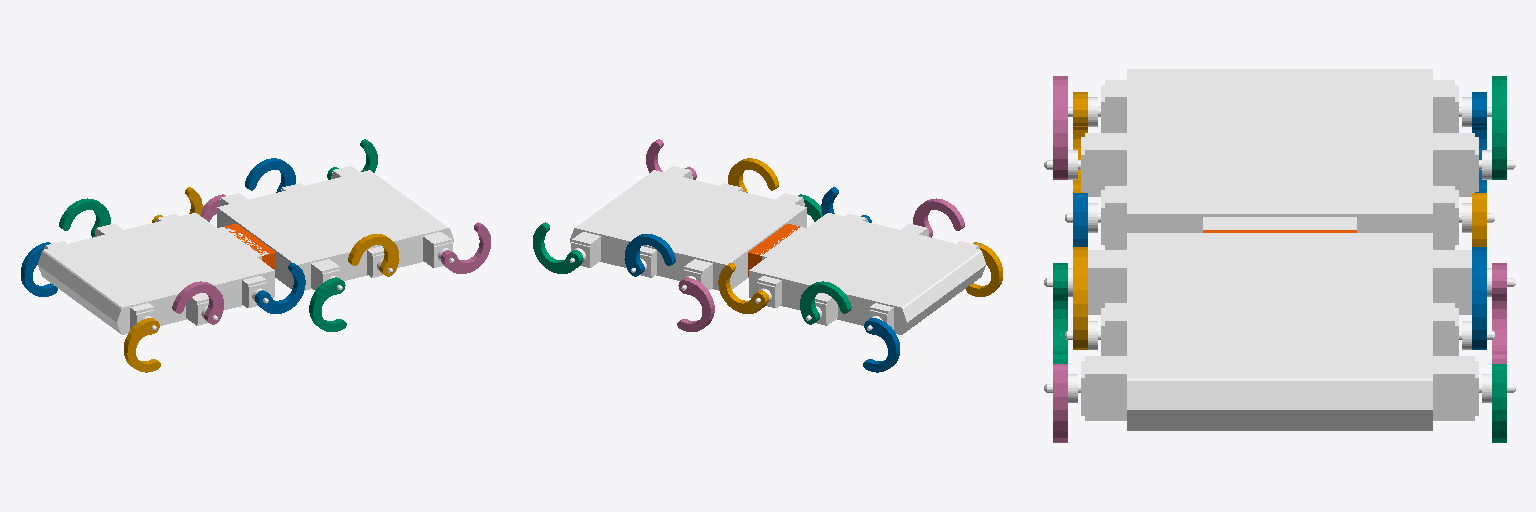
--- Render facts (derived) ---
3 views of the same robot in one strip: view 1: azimuth 30°, elevation 25°; view 2: azimuth 150°, elevation 25°; view 3: azimuth 270°, elevation 25° (orthographic).
Model strirus_gamma with 33 links and 32 joints (12 revolute, 20 fixed), rooted at base_footprint, posed all joints at 0.
Links seen in each view (by area): view 1: body_1_part, body_2_part, leg_right_1, leg_right_4, leg_right_3, leg_right_0, leg_right_5, leg_right_2, leg_left_1, leg_left_4, leg_left_0, motor_box_right_5 (+4 smaller); view 2: body_1_part, body_2_part, leg_left_1, leg_left_4, leg_left_3, leg_left_0, leg_left_5, leg_left_2, leg_right_1, leg_right_4, leg_right_0, motor_box_left_5 (+4 smaller); view 3: body_2_part, body_1_part, motor_box_right_5, motor_box_left_5, motor_box_left_1, motor_box_right_1, motor_box_left_3, motor_box_right_3, motor_box_left_2, motor_box_right_2, bridge_1_part, motor_box_right_4 (+15 smaller).
Link boxes in pixels (x1,y1,x2,y2): body_1_part: [38, 213, 274, 334]; body_2_part: [217, 170, 453, 290]; leg_right_1: [172, 281, 223, 324]; leg_right_4: [348, 234, 399, 276]; leg_right_3: [309, 277, 346, 331]; leg_right_0: [124, 318, 160, 372]; leg_right_5: [440, 222, 490, 273]; leg_right_2: [255, 263, 305, 313]; leg_left_1: [59, 198, 110, 237]; leg_left_4: [245, 158, 295, 192]; leg_left_0: [21, 242, 57, 296]; motor_box_right_5: [410, 216, 454, 267]; body_1_part: [749, 213, 985, 334]; body_2_part: [570, 170, 806, 290]; leg_left_1: [800, 281, 851, 324]; leg_left_4: [624, 234, 675, 276]; leg_left_3: [677, 277, 714, 331]; leg_left_0: [863, 318, 899, 372]; leg_left_5: [533, 222, 583, 273]; leg_left_2: [718, 263, 768, 313]; leg_right_1: [913, 198, 964, 237]; leg_right_4: [728, 158, 778, 192]; leg_right_0: [966, 242, 1002, 296]; motor_box_left_5: [569, 216, 613, 267]; body_2_part: [1127, 233, 1432, 430]; body_1_part: [1127, 69, 1432, 232]; motor_box_right_5: [1044, 356, 1209, 420]; motor_box_left_5: [1351, 356, 1515, 420]; motor_box_left_1: [1350, 133, 1515, 196]; motor_box_right_1: [1044, 133, 1209, 196]; motor_box_left_3: [1350, 250, 1515, 314]; motor_box_right_3: [1044, 250, 1209, 314]; motor_box_left_2: [1330, 186, 1494, 249]; motor_box_right_2: [1065, 186, 1229, 249]; bridge_1_part: [1203, 217, 1356, 229]; motor_box_right_4: [1065, 303, 1228, 355].
Size in the robot's own frame: 0.6798 by 0.399 by 0.1454 metres.
28 mesh visuals loaded from 6 distinct referenced files (6 binary STL).

robot.urdf — strirus_gamma:
<?xml version="1.0" encoding="utf-8"?>
<!-- =================================================================================== -->
<!-- |    This document was autogenerated by xacro from strirus_gamma.xacro            | -->
<!-- |    EDITING THIS FILE BY HAND IS NOT RECOMMENDED                                 | -->
<!-- =================================================================================== -->
<robot name="strirus_gamma">
  <!-- 	<xacro:arg name="namespace" default="/"/>
        <xacro:property name="namespace" value="$(arg namespace)" /> -->
  <!-- Constants for simulating -->
  <!-- Xacro arg provides xacro.py file.xacro real_number_of_legs:=12 -->
  <!-- arg to properties with converting to rad if it is needed -->
  <!-- Import Rviz colors -->
  <material name="black">
    <color rgba="0.0 0.0 0.0 1.0"/>
  </material>
  <material name="blue">
    <color rgba="0.0 0.0 0.8 1.0"/>
  </material>
  <material name="green">
    <color rgba="0.0 0.8 0.0 1.0"/>
  </material>
  <material name="grey">
    <color rgba="0.2 0.2 0.2 1.0"/>
  </material>
  <material name="orange">
    <color rgba="1.0 0.423529411765 0.0392156862745 1.0"/>
  </material>
  <material name="brown">
    <color rgba="0.870588235294 0.811764705882 0.764705882353 1.0"/>
  </material>
  <material name="red">
    <color rgba="0.8 0.0 0.0 1.0"/>
  </material>
  <material name="white">
    <color rgba="1.0 1.0 1.0 1.0"/>
  </material>
  <!-- Body description -->
  <link name="base_footprint"/>
  <joint name="base_footprint_body_1_part_fixed" type="fixed">
    <parent link="base_footprint"/>
    <child link="body_1_part"/>
    <origin rpy="0  0  0" xyz="0 0 0.08"/>
  </joint>
  <!-- body 1 -->
  <link name="body_1_part">
    <inertial>
      <mass value="0.665"/>
      <origin rpy="0  0  0" xyz="0.101 0 -0.002"/>
      <inertia ixx="0.005" ixy="0" ixz="0.0001366" iyy="0.013" iyz="0" izz="0.017"/>
    </inertial>
    <collision>
      <origin rpy="0  0  0" xyz="0 0 0"/>
      <geometry>
        <mesh filename="package://robot_description/strirus_cad_design/stl/body_1_collision.stl" scale="1 1 1"/>
      </geometry>
    </collision>
    <visual>
      <origin rpy="0  0  0" xyz="0 0 0"/>
      <geometry>
        <!-- <mesh filename="package://robot_description/strirus_cad_design/stl/body_1_visual.stl" scale="1 1 1"/> -->
        <mesh filename="package://robot_description/strirus_cad_design/stl/body_1_collision.stl" scale="1 1 1"/>
      </geometry>
      <material name="white"/>
    </visual>
  </link>
  <!-- tof camera 1-->
  <link name="tof_camera_1"/>
  <joint name="body_1_part_tof_camera_1_fixed" type="fixed">
    <parent link="body_1_part"/>
    <child link="tof_camera_1"/>
    <origin rpy="0  0  3.14159265359" xyz="-0.0245 0 0"/>
  </joint>
  <!-- imu 1 -->
  <link name="imu_1"/>
  <joint name="body_1_part_imu_1_fixed" type="fixed">
    <parent link="body_1_part"/>
    <child link="imu_1"/>
    <origin rpy="0  0  0" xyz="0 0 0"/>
  </joint>
  <!-- body 2 -->
  <link name="body_2_part">
    <inertial>
      <mass value="0.665"/>
      <origin rpy="0  0  0" xyz="0.146 0 -0.002"/>
      <inertia ixx="0.005" ixy="1.656e-06" ixz="0.0002448" iyy="0.02" iyz="-2.631e-08" izz="0.024"/>
    </inertial>
    <collision>
      <origin rpy="0  0  0" xyz="0 0 0"/>
      <geometry>
        <mesh filename="package://robot_description/strirus_cad_design/stl/body_2_collision.stl" scale="1 1 1"/>
      </geometry>
    </collision>
    <visual>
      <origin rpy="0  0  0" xyz="0 0 0"/>
      <geometry>
        <!-- <mesh filename="package://robot_description/strirus_cad_design/stl/body_2_visual.stl" scale="1 1 1"/> -->
        <mesh filename="package://robot_description/strirus_cad_design/stl/body_2_collision.stl" scale="1 1 1"/>
      </geometry>
      <material name="white"/>
    </visual>
  </link>
  <!-- tof camera 2 -->
  <link name="tof_camera_2"/>
  <joint name="body_2_part_tof_camera_2_fixed" type="fixed">
    <parent link="body_2_part"/>
    <child link="tof_camera_2"/>
    <origin rpy="0  0  0" xyz="0.2715 0 0"/>
  </joint>
  <!-- imu 1 -->
  <link name="imu_2"/>
  <joint name="body_2_part_imu_2_fixed" type="fixed">
    <parent link="body_2_part"/>
    <child link="imu_2"/>
    <origin rpy="0  0  0" xyz="0.2226 0 0"/>
  </joint>
  <!-- bridge 1 -->
  <link name="bridge_1_part">
    <inertial>
      <mass value="0.147"/>
      <origin rpy="0  0  0" xyz="0.005 0 0"/>
      <inertia ixx="0.0003384" ixy="0" ixz="0" iyy="5.442e-05" iyz="0" izz="0.0003303"/>
    </inertial>
    <collision>
      <origin rpy="0  0  0" xyz="0 0 0"/>
      <geometry>
        <mesh filename="package://robot_description/strirus_cad_design/stl/bridge_1_collision.stl" scale="1 1 1"/>
      </geometry>
    </collision>
    <visual>
      <origin rpy="0  0  0" xyz="0 0 0"/>
      <geometry>
        <!-- <mesh filename="package://robot_description/strirus_cad_design/stl/bridge_1_visual.stl" scale="1 1 1"/> -->
        <mesh filename="package://robot_description/strirus_cad_design/stl/bridge_1_collision.stl" scale="1 1 1"/>
      </geometry>
      <material name="white"/>
    </visual>
  </link>
  <!-- bridge 2 -->
  <link name="bridge_2_part">
    <inertial>
      <mass value="0.147"/>
      <origin rpy="0  0  0" xyz="0.025 0 0"/>
      <inertia ixx="0.0003654" ixy="0" ixz="-1.872e-06" iyy="0.0001394" iyz="0" izz="0.0004423"/>
    </inertial>
    <collision>
      <origin rpy="0  0  0" xyz="0 0 0"/>
      <geometry>
        <mesh filename="package://robot_description/strirus_cad_design/stl/bridge_2_collision.stl" scale="1 1 1"/>
      </geometry>
    </collision>
    <visual>
      <origin rpy="0  0  0" xyz="0 0 0"/>
      <geometry>
        <!-- <mesh filename="package://robot_description/strirus_cad_design/stl/bridge_2_visual.stl" scale="1 1 1"/> -->
        <mesh filename="package://robot_description/strirus_cad_design/stl/bridge_2_collision.stl" scale="1 1 1"/>
      </geometry>
      <material name="orange"/>
    </visual>
  </link>
  <joint name="segment_side_fixed" type="fixed">
    <parent link="body_1_part"/>
    <child link="bridge_1_part"/>
    <origin rpy="0 0 -0.0" xyz="0.247 0 0"/>
  </joint>
  <joint name="segment_up_fixed" type="fixed">
    <parent link="bridge_1_part"/>
    <child link="bridge_2_part"/>
    <origin rpy="0 -0.0 0" xyz="0.03 0 0"/>
  </joint>
  <joint name="bridge_2_part_body_2_part_fixed" type="fixed">
    <parent link="bridge_2_part"/>
    <child link="body_2_part"/>
    <origin rpy="0 0 0" xyz="0.03 0 0"/>
  </joint>
  <!--===================== Link description =====================-->
  <link name="motor_box_left_5">
    <inertial>
      <mass value="0.286"/>
      <origin rpy="0  0  0" xyz="0.053 0.003 0"/>
      <inertia ixx="8.104e-05" ixy="8.747e-06" ixz="2.555e-07" iyy="0.001" iyz="0" izz="0.001"/>
    </inertial>
    <collision>
      <origin rpy="0  0  0" xyz="0 0 0"/>
      <geometry>
        <mesh filename="package://robot_description/strirus_cad_design/stl/motor_box_collision.stl" scale="1 1 1"/>
      </geometry>
    </collision>
    <visual>
      <origin rpy="0  0  0" xyz="0 0 0"/>
      <geometry>
        <mesh filename="package://robot_description/strirus_cad_design/stl/motor_box_visual.stl" scale="1 1 1"/>
      </geometry>
      <material name="white"/>
    </visual>
  </link>
  <link name="leg_left_5">
    <inertial>
      <mass value="0.051"/>
      <origin rpy="0  0  0" xyz="-0.013348671 0 0"/>
      <inertia ixx="0.000102" ixy="0" ixz="-2.817e-05" iyy="0.0001322" iyz="0" izz="3.167e-05"/>
    </inertial>
    <collision>
      <origin rpy="0  0  0" xyz="0 0 0"/>
      <geometry>
        <!-- <box size="0.1 0.0065 0.08"/> -->
        <mesh filename="package://robot_description/strirus_cad_design/stl/leg_80_collision.stl" scale="1 1 1"/>
      </geometry>
    </collision>
    <visual>
      <origin rpy="0 0 0" xyz="0 0 0"/>
      <geometry>
        <!-- <box size="0.1 0.0065 0.08"/> -->
        <mesh filename="package://robot_description/strirus_cad_design/stl/leg_80_visual.stl" scale="1 1 1"/>
      </geometry>
    </visual>
  </link>
  <joint name="motor_box_left_5_fixed_joint" type="fixed">
    <child link="motor_box_left_5"/>
    <parent link="body_2_part"/>
    <origin rpy="0       0        1.57079632679" xyz="0.247 0.063  0"/>
  </joint>
  <joint name="leg_left_5_revolute_joint" type="revolute">
    <parent link="motor_box_left_5"/>
    <child link="leg_left_5"/>
    <origin rpy="0 10.5592419746 -1.57079632679" xyz="0.123 0 0"/>
    <!--=============== Joint properties ===============-->
    <axis xyz="0 1  0"/>
    <limit effort="300" lower="-1e+5" upper="1e+5" velocity="3.0"/>
    <dynamics damping="0.001" friction="0.0"/>
  </joint>
  <!--===================== Leg transmission description =====================-->
  <transmission name="leg_left_5_trans">
    <type>transmission_interface/SimpleTransmission</type>
    <joint name="leg_left_5_revolute_joint">
      <!-- <hardwareInterface>hardware_interface/PositionJointInterface</hardwareInterface> -->
      <hardwareInterface>hardware_interface/EffortJointInterface</hardwareInterface>
    </joint>
    <actuator name="leg_left_5_motor">
      <mechanicalReduction>1</mechanicalReduction>
    </actuator>
  </transmission>
  <gazebo reference="leg_left_5">
            
      </gazebo>
  <gazebo reference="leg_left_5">
    <mu1 value="100.0"/>
    <mu2 value="100.0"/>
    <!-- <kp  value="1000.0" />
        <kd  value="1000.0" /> -->
    <!-- <collision>
               <surface>
        <bounce>
            <restitution_coefficient>0</restitution_coefficient>
            <threshold>0</threshold>
          </bounce>
          <contact>
            <ode>
              <soft_cfm>0</soft_cfm>
              <soft_erp>0.200000</soft_erp>
              <kp>10000000000000.000000</kp>
              <kd>100000000000.000000</kd>
              <max_vel>-1</max_vel>
              <min_depth>0</min_depth>
            </ode>
          </contact>
        </surface>
        </collision> -->
    <!-- <mu1 value="10000.0"/>
        <mu2 value="10000.0"/>
        <kp  value="10000000.0" />
        <kd  value="1.0" />
        <fdir1 value="1 0 0"/> -->
    <material>Gazebo/Green</material>
  </gazebo>
  <!-- frameName seems not working data are given according to the world frame -->
  <gazebo reference="leg_left_5">
    <sensor name="leg_left_5_bumper" type="contact">
      <always_on>true</always_on>
      <update_rate>50</update_rate>
      <contact>
        <collision>leg_left_5_collision</collision>
      </contact>
      <plugin filename="libgazebo_ros_bumper.so" name="leg_left_5_bumper_controller">
        <bumperTopicName>leg_left_5_bumper</bumperTopicName>
        <frameName>world</frameName>
      </plugin>
    </sensor>
  </gazebo>
  <!--===================== Link description =====================-->
  <link name="motor_box_left_4">
    <inertial>
      <mass value="0.286"/>
      <origin rpy="0  0  0" xyz="0.053 0.003 0"/>
      <inertia ixx="8.104e-05" ixy="8.747e-06" ixz="2.555e-07" iyy="0.001" iyz="0" izz="0.001"/>
    </inertial>
    <collision>
      <origin rpy="0  0  0" xyz="0 0 0"/>
      <geometry>
        <mesh filename="package://robot_description/strirus_cad_design/stl/motor_box_collision.stl" scale="1 1 1"/>
      </geometry>
    </collision>
    <visual>
      <origin rpy="0  0  0" xyz="0 0 0"/>
      <geometry>
        <mesh filename="package://robot_description/strirus_cad_design/stl/motor_box_visual.stl" scale="1 1 1"/>
      </geometry>
      <material name="white"/>
    </visual>
  </link>
  <link name="leg_left_4">
    <inertial>
      <mass value="0.051"/>
      <origin rpy="0  0  0" xyz="-0.013348671 0 0"/>
      <inertia ixx="0.000102" ixy="0" ixz="-2.817e-05" iyy="0.0001322" iyz="0" izz="3.167e-05"/>
    </inertial>
    <collision>
      <origin rpy="0  0  0" xyz="0 0 0"/>
      <geometry>
        <!-- <box size="0.1 0.0065 0.08"/> -->
        <mesh filename="package://robot_description/strirus_cad_design/stl/leg_80_collision.stl" scale="1 1 1"/>
      </geometry>
    </collision>
    <visual>
      <origin rpy="0 0 0" xyz="0 0 0"/>
      <geometry>
        <!-- <box size="0.1 0.0065 0.08"/> -->
        <mesh filename="package://robot_description/strirus_cad_design/stl/leg_80_visual.stl" scale="1 1 1"/>
      </geometry>
    </visual>
  </link>
  <joint name="motor_box_left_4_fixed_joint" type="fixed">
    <child link="motor_box_left_4"/>
    <parent link="body_2_part"/>
    <origin rpy="0       0        1.57079632679" xyz="0.141 0.046  0"/>
  </joint>
  <joint name="leg_left_4_revolute_joint" type="revolute">
    <parent link="motor_box_left_4"/>
    <child link="leg_left_4"/>
    <origin rpy="0 8.46484687217 -1.57079632679" xyz="0.123 0 0"/>
    <!--=============== Joint properties ===============-->
    <axis xyz="0 1  0"/>
    <limit effort="300" lower="-1e+5" upper="1e+5" velocity="3.0"/>
    <dynamics damping="0.001" friction="0.0"/>
  </joint>
  <!--===================== Leg transmission description =====================-->
  <transmission name="leg_left_4_trans">
    <type>transmission_interface/SimpleTransmission</type>
    <joint name="leg_left_4_revolute_joint">
      <!-- <hardwareInterface>hardware_interface/PositionJointInterface</hardwareInterface> -->
      <hardwareInterface>hardware_interface/EffortJointInterface</hardwareInterface>
    </joint>
    <actuator name="leg_left_4_motor">
      <mechanicalReduction>1</mechanicalReduction>
    </actuator>
  </transmission>
  <gazebo reference="leg_left_4">
            
      </gazebo>
  <gazebo reference="leg_left_4">
    <mu1 value="100.0"/>
    <mu2 value="100.0"/>
    <!-- <kp  value="1000.0" />
        <kd  value="1000.0" /> -->
    <!-- <collision>
               <surface>
        <bounce>
            <restitution_coefficient>0</restitution_coefficient>
            <threshold>0</threshold>
          </bounce>
          <contact>
            <ode>
              <soft_cfm>0</soft_cfm>
              <soft_erp>0.200000</soft_erp>
              <kp>10000000000000.000000</kp>
              <kd>100000000000.000000</kd>
              <max_vel>-1</max_vel>
              <min_depth>0</min_depth>
            </ode>
          </contact>
        </surface>
        </collision> -->
    <!-- <mu1 value="10000.0"/>
        <mu2 value="10000.0"/>
        <kp  value="10000000.0" />
        <kd  value="1.0" />
        <fdir1 value="1 0 0"/> -->
    <material>Gazebo/Green</material>
  </gazebo>
  <!-- frameName seems not working data are given according to the world frame -->
  <gazebo reference="leg_left_4">
    <sensor name="leg_left_4_bumper" type="contact">
      <always_on>true</always_on>
      <update_rate>50</update_rate>
      <contact>
        <collision>leg_left_4_collision</collision>
      </contact>
      <plugin filename="libgazebo_ros_bumper.so" name="leg_left_4_bumper_controller">
        <bumperTopicName>leg_left_4_bumper</bumperTopicName>
        <frameName>world</frameName>
      </plugin>
    </sensor>
  </gazebo>
  <!--===================== Link description =====================-->
  <link name="motor_box_left_3">
    <inertial>
      <mass value="0.286"/>
      <origin rpy="0  0  0" xyz="0.053 0.003 0"/>
      <inertia ixx="8.104e-05" ixy="8.747e-06" ixz="2.555e-07" iyy="0.001" iyz="0" izz="0.001"/>
    </inertial>
    <collision>
      <origin rpy="0  0  0" xyz="0 0 0"/>
      <geometry>
        <mesh filename="package://robot_description/strirus_cad_design/stl/motor_box_collision.stl" scale="1 1 1"/>
      </geometry>
    </collision>
    <visual>
      <origin rpy="0  0  0" xyz="0 0 0"/>
      <geometry>
        <mesh filename="package://robot_description/strirus_cad_design/stl/motor_box_visual.stl" scale="1 1 1"/>
      </geometry>
      <material name="white"/>
    </visual>
  </link>
  <link name="leg_left_3">
    <inertial>
      <mass value="0.051"/>
      <origin rpy="0  0  0" xyz="-0.013348671 0 0"/>
      <inertia ixx="0.000102" ixy="0" ixz="-2.817e-05" iyy="0.0001322" iyz="0" izz="3.167e-05"/>
    </inertial>
    <collision>
      <origin rpy="0  0  0" xyz="0 0 0"/>
      <geometry>
        <!-- <box size="0.1 0.0065 0.08"/> -->
        <mesh filename="package://robot_description/strirus_cad_design/stl/leg_80_collision.stl" scale="1 1 1"/>
      </geometry>
    </collision>
    <visual>
      <origin rpy="0 0 0" xyz="0 0 0"/>
      <geometry>
        <!-- <box size="0.1 0.0065 0.08"/> -->
        <mesh filename="package://robot_description/strirus_cad_design/stl/leg_80_visual.stl" scale="1 1 1"/>
      </geometry>
    </visual>
  </link>
  <joint name="motor_box_left_3_fixed_joint" type="fixed">
    <child link="motor_box_left_3"/>
    <parent link="body_2_part"/>
    <origin rpy="0       0        1.57079632679" xyz="0.035 0.063  0"/>
  </joint>
  <joint name="leg_left_3_revolute_joint" type="revolute">
    <parent link="motor_box_left_3"/>
    <child link="leg_left_3"/>
    <origin rpy="0 6.37045176978 -1.57079632679" xyz="0.123 0 0"/>
    <!--=============== Joint properties ===============-->
    <axis xyz="0 1  0"/>
    <limit effort="300" lower="-1e+5" upper="1e+5" velocity="3.0"/>
    <dynamics damping="0.001" friction="0.0"/>
  </joint>
  <!--===================== Leg transmission description =====================-->
  <transmission name="leg_left_3_trans">
    <type>transmission_interface/SimpleTransmission</type>
    <joint name="leg_left_3_revolute_joint">
      <!-- <hardwareInterface>hardware_interface/PositionJointInterface</hardwareInterface> -->
      <hardwareInterface>hardware_interface/EffortJointInterface</hardwareInterface>
    </joint>
    <actuator name="leg_left_3_motor">
      <mechanicalReduction>1</mechanicalReduction>
    </actuator>
  </transmission>
  <gazebo reference="leg_left_3">
            
      </gazebo>
  <gazebo reference="leg_left_3">
    <mu1 value="100.0"/>
    <mu2 value="100.0"/>
    <!-- <kp  value="1000.0" />
        <kd  value="1000.0" /> -->
    <!-- <collision>
               <surface>
        <bounce>
            <restitution_coefficient>0</restitution_coefficient>
            <threshold>0</threshold>
          </bounce>
          <contact>
            <ode>
              <soft_cfm>0</soft_cfm>
              <soft_erp>0.200000</soft_erp>
              <kp>10000000000000.000000</kp>
              <kd>100000000000.000000</kd>
              <max_vel>-1</max_vel>
              <min_depth>0</min_depth>
            </ode>
          </contact>
        </surface>
        </collision> -->
    <!-- <mu1 value="10000.0"/>
        <mu2 value="10000.0"/>
        <kp  value="10000000.0" />
        <kd  value="1.0" />
        <fdir1 value="1 0 0"/> -->
    <material>Gazebo/Green</material>
  </gazebo>
  <!-- frameName seems not working data are given according to the world frame -->
  <gazebo reference="leg_left_3">
    <sensor name="leg_left_3_bumper" type="contact">
      <always_on>true</always_on>
      <update_rate>50</update_rate>
      <contact>
        <collision>leg_left_3_collision</collision>
      </contact>
      <plugin filename="libgazebo_ros_bumper.so" name="leg_left_3_bumper_controller">
        <bumperTopicName>leg_left_3_bumper</bumperTopicName>
        <frameName>world</frameName>
      </plugin>
    </sensor>
  </gazebo>
  <!--===================== Link description =====================-->
  <link name="motor_box_left_2">
    <inertial>
      <mass value="0.286"/>
      <origin rpy="0  0  0" xyz="0.053 0.003 0"/>
      <inertia ixx="8.104e-05" ixy="8.747e-06" ixz="2.555e-07" iyy="0.001" iyz="0" izz="0.001"/>
    </inertial>
    <collision>
      <origin rpy="0  0  0" xyz="0 0 0"/>
      <geometry>
        <mesh filename="package://robot_description/strirus_cad_design/stl/motor_box_collision.stl" scale="1 1 1"/>
      </geometry>
    </collision>
    <visual>
      <origin rpy="0  0  0" xyz="0 0 0"/>
      <geometry>
        <mesh filename="package://robot_description/strirus_cad_design/stl/motor_box_visual.stl" scale="1 1 1"/>
      </geometry>
      <material name="white"/>
    </visual>
  </link>
  <link name="leg_left_2">
    <inertial>
      <mass value="0.051"/>
      <origin rpy="0  0  0" xyz="-0.013348671 0 0"/>
      <inertia ixx="0.000102" ixy="0" ixz="-2.817e-05" iyy="0.0001322" iyz="0" izz="3.167e-05"/>
    </inertial>
    <collision>
      <origin rpy="0  0  0" xyz="0 0 0"/>
      <geometry>
        <!-- <box size="0.1 0.0065 0.08"/> -->
        <mesh filename="package://robot_description/strirus_cad_design/stl/leg_80_collision.stl" scale="1 1 1"/>
      </geometry>
    </collision>
    <visual>
      <origin rpy="0 0 0" xyz="0 0 0"/>
      <geometry>
        <!-- <box size="0.1 0.0065 0.08"/> -->
        <mesh filename="package://robot_description/strirus_cad_design/stl/leg_80_visual.stl" scale="1 1 1"/>
      </geometry>
    </visual>
  </link>
  <joint name="motor_box_left_2_fixed_joint" type="fixed">
    <child link="motor_box_left_2"/>
    <parent link="body_1_part"/>
    <origin rpy="0       0        1.57079632679" xyz="0.212 0.046  0"/>
  </joint>
  <joint name="leg_left_2_revolute_joint" type="revolute">
    <parent link="motor_box_left_2"/>
    <child link="leg_left_2"/>
    <origin rpy="0 4.27605666739 -1.57079632679" xyz="0.123 0 0"/>
    <!--=============== Joint properties ===============-->
    <axis xyz="0 1  0"/>
    <limit effort="300" lower="-1e+5" upper="1e+5" velocity="3.0"/>
    <dynamics damping="0.001" friction="0.0"/>
  </joint>
  <!--===================== Leg transmission description =====================-->
  <transmission name="leg_left_2_trans">
    <type>transmission_interface/SimpleTransmission</type>
    <joint name="leg_left_2_revolute_joint">
      <!-- <hardwareInterface>hardware_interface/PositionJointInterface</hardwareInterface> -->
      <hardwareInterface>hardware_interface/EffortJointInterface</hardwareInterface>
    </joint>
    <actuator name="leg_left_2_motor">
      <mechanicalReduction>1</mechanicalReduction>
    </actuator>
  </transmission>
  <gazebo reference="leg_left_2">
            
      </gazebo>
  <gazebo reference="leg_left_2">
    <mu1 value="100.0"/>
    <mu2 value="100.0"/>
    <!-- <kp  value="1000.0" />
        <kd  value="1000.0" /> -->
    <!-- <collision>
               <surface>
        <bounce>
            <restitution_coefficient>0</restitution_coefficient>
            <threshold>0</threshold>
          </bounce>
          <contact>
            <ode>
              <soft_cfm>0</soft_cfm>
              <soft_erp>0.200000</soft_erp>
              <kp>10000000000000.000000</kp>
              <kd>100000000000.000000</kd>
              <max_vel>-1</max_vel>
              <min_depth>0</min_depth>
            </ode>
          </contact>
        </surface>
        </collision> -->
    <!-- <mu1 value="10000.0"/>
        <mu2 value="10000.0"/>
        <kp  value="10000000.0" />
        <kd  value="1.0" />
        <fdir1 value="1 0 0"/> -->
    <material>Gazebo/Green</material>
  </gazebo>
  <!-- frameName seems not working data are given according to the world frame -->
  <gazebo reference="leg_left_2">
    <sensor name="leg_left_2_bumper" type="contact">
      <always_on>true</always_on>
      <update_rate>50</update_rate>
      <contact>
        <collision>leg_left_2_collision</collision>
      </contact>
      <plugin filename="libgazebo_ros_bumper.so" name="leg_left_2_bumper_controller">
        <bumperTopicName>leg_left_2_bumper</bumperTopicName>
        <frameName>world</frameName>
      </plugin>
    </sensor>
  </gazebo>
  <!--===================== Link description =====================-->
  <link name="motor_box_left_1">
    <inertial>
      <mass value="0.286"/>
      <origin rpy="0  0  0" xyz="0.053 0.003 0"/>
      <inertia ixx="8.104e-05" ixy="8.747e-06" ixz="2.555e-07" iyy="0.001" iyz="0" izz="0.001"/>
    </inertial>
    <collision>
      <origin rpy="0  0  0" xyz="0 0 0"/>
      <geometry>
        <mesh filename="package://robot_description/strirus_cad_design/stl/motor_box_collision.stl" scale="1 1 1"/>
      </geometry>
    </collision>
    <visual>
      <origin rpy="0  0  0" xyz="0 0 0"/>
      <geometry>
        <mesh filename="package://robot_description/strirus_cad_design/stl/motor_box_visual.stl" scale="1 1 1"/>
      </geometry>
      <material name="white"/>
    </visual>
  </link>
  <link name="leg_left_1">
    <inertial>
      <mass value="0.051"/>
      <origin rpy="0  0  0" xyz="-0.013348671 0 0"/>
      <inertia ixx="0.000102" ixy="0" ixz="-2.817e-05" iyy="0.0001322" iyz="0" izz="3.167e-05"/>
    </inertial>
    <collision>
      <origin rpy="0  0  0" xyz="0 0 0"/>
      <geometry>
        <!-- <box size="0.1 0.0065 0.08"/> -->
        <mesh filename="package://robot_description/strirus_cad_design/stl/leg_80_collision.stl" scale="1 1 1"/>
      </geometry>
    </collision>
    <visual>
      <origin rpy="0 0 0" xyz="0 0 0"/>
      <geometry>
        <!-- <box size="0.1 0.0065 0.08"/> -->
        <mesh filename="package://robot_description/strirus_cad_design/stl/leg_80_visual.stl" scale="1 1 1"/>
      </geometry>
    </visual>
  </link>
  <joint name="motor_box_left_1_fixed_joint" type="fixed">
    <child link="motor_box_left_1"/>
    <parent link="body_1_part"/>
    <origin rpy="0       0        1.57079632679" xyz="0.106 0.063  0"/>
  </joint>
  <joint name="leg_left_1_revolute_joint" type="revolute">
    <parent link="motor_box_left_1"/>
    <child link="leg_left_1"/>
    <origin rpy="0 2.18166156499 -1.57079632679" xyz="0.123 0 0"/>
    <!--=============== Joint properties ===============-->
    <axis xyz="0 1  0"/>
    <limit effort="300" lower="-1e+5" upper="1e+5" velocity="3.0"/>
    <dynamics damping="0.001" friction="0.0"/>
  </joint>
  <!--===================== Leg transmission description =====================-->
  <transmission name="leg_left_1_trans">
    <type>transmission_interface/SimpleTransmission</type>
    <joint name="leg_left_1_revolute_joint">
      <!-- <hardwareInterface>hardware_interface/PositionJointInterface</hardwareInterface> -->
      <hardwareInterface>hardware_interface/EffortJointInterface</hardwareInterface>
    </joint>
    <actuator name="leg_left_1_motor">
      <mechanicalReduction>1</mechanicalReduction>
    </actuator>
  </transmission>
  <gazebo reference="leg_left_1">
            
      </gazebo>
  <gazebo reference="leg_left_1">
    <mu1 value="100.0"/>
    <mu2 value="100.0"/>
    <!-- <kp  value="1000.0" />
        <kd  value="1000.0" /> -->
    <!-- <collision>
               <surface>
        <bounce>
            <restitution_coefficient>0</restitution_coefficient>
            <threshold>0</threshold>
          </bounce>
          <contact>
            <ode>
              <soft_cfm>0</soft_cfm>
              <soft_erp>0.200000</soft_erp>
              <kp>10000000000000.000000</kp>
              <kd>100000000000.000000</kd>
              <max_vel>-1</max_vel>
              <min_depth>0</min_depth>
            </ode>
          </contact>
        </surface>
        </collision> -->
    <!-- <mu1 value="10000.0"/>
        <mu2 value="10000.0"/>
        <kp  value="10000000.0" />
        <kd  value="1.0" />
        <fdir1 value="1 0 0"/> -->
    <material>Gazebo/Green</material>
  </gazebo>
  <!-- frameName seems not working data are given according to the world frame -->
  <gazebo reference="leg_left_1">
    <sensor name="leg_left_1_bumper" type="contact">
      <always_on>true</always_on>
      <update_rate>50</update_rate>
      <contact>
        <collision>leg_left_1_collision</collision>
      </contact>
      <plugin filename="libgazebo_ros_bumper.so" name="leg_left_1_bumper_controller">
        <bumperTopicName>leg_left_1_bumper</bumperTopicName>
        <frameName>world</frameName>
      </plugin>
    </sensor>
  </gazebo>
  <!--===================== Link description =====================-->
  <link name="motor_box_left_0">
    <inertial>
      <mass value="0.286"/>
      <origin rpy="0  0  0" xyz="0.053 0.003 0"/>
      <inertia ixx="8.104e-05" ixy="8.747e-06" ixz="2.555e-07" iyy="0.001" iyz="0" izz="0.001"/>
    </inertial>
    <collision>
      <origin rpy="0  0  0" xyz="0 0 0"/>
      <geometry>
        <mesh filename="package://robot_description/strirus_cad_design/stl/motor_box_collision.stl" scale="1 1 1"/>
      </geometry>
    </collision>
    <visual>
      <origin rpy="0  0  0" xyz="0 0 0"/>
      <geometry>
        <mesh filename="package://robot_description/strirus_cad_design/stl/motor_box_visual.stl" scale="1 1 1"/>
      </geometry>
      <material name="white"/>
    </visual>
  </link>
  <link name="leg_left_0">
    <inertial>
      <mass value="0.051"/>
      <origin rpy="0  0  0" xyz="-0.013348671 0 0"/>
      <inertia ixx="0.000102" ixy="0" ixz="-2.817e-05" iyy="0.0001322" iyz="0" izz="3.167e-05"/>
    </inertial>
    <collision>
      <origin rpy="0  0  0" xyz="0 0 0"/>
      <geometry>
        <!-- <box size="0.1 0.0065 0.08"/> -->
        <mesh filename="package://robot_description/strirus_cad_design/stl/leg_80_collision.stl" scale="1 1 1"/>
      </geometry>
    </collision>
    <visual>
      <origin rpy="0 0 0" xyz="0 0 0"/>
      <geometry>
        <!-- <box size="0.1 0.0065 0.08"/> -->
        <mesh filename="package://robot_description/strirus_cad_design/stl/leg_80_visual.stl" scale="1 1 1"/>
      </geometry>
    </visual>
  </link>
  <joint name="motor_box_left_0_fixed_joint" type="fixed">
    <child link="motor_box_left_0"/>
    <parent link="body_1_part"/>
    <origin rpy="0       0        1.57079632679" xyz="0.0 0.046  0"/>
  </joint>
  <joint name="leg_left_0_revolute_joint" type="revolute">
    <parent link="motor_box_left_0"/>
    <child link="leg_left_0"/>
    <origin rpy="0 0.0872664625997 -1.57079632679" xyz="0.123 0 0"/>
    <!--=============== Joint properties ===============-->
    <axis xyz="0 1  0"/>
    <limit effort="300" lower="-1e+5" upper="1e+5" velocity="3.0"/>
    <dynamics damping="0.001" friction="0.0"/>
  </joint>
  <!--===================== Leg transmission description =====================-->
  <transmission name="leg_left_0_trans">
    <type>transmission_interface/SimpleTransmission</type>
    <joint name="leg_left_0_revolute_joint">
      <!-- <hardwareInterface>hardware_interface/PositionJointInterface</hardwareInterface> -->
      <hardwareInterface>hardware_interface/EffortJointInterface</hardwareInterface>
    </joint>
    <actuator name="leg_left_0_motor">
      <mechanicalReduction>1</mechanicalReduction>
    </actuator>
  </transmission>
  <gazebo reference="leg_left_0">
            
      </gazebo>
  <gazebo reference="leg_left_0">
    <mu1 value="100.0"/>
    <mu2 value="100.0"/>
    <!-- <kp  value="1000.0" />
        <kd  value="1000.0" /> -->
    <!-- <collision>
               <surface>
        <bounce>
            <restitution_coefficient>0</restitution_coefficient>
            <threshold>0</threshold>
          </bounce>
          <contact>
            <ode>
              <soft_cfm>0</soft_cfm>
              <soft_erp>0.200000</soft_erp>
              <kp>10000000000000.000000</kp>
              <kd>100000000000.000000</kd>
              <max_vel>-1</max_vel>
              <min_depth>0</min_depth>
            </ode>
          </contact>
        </surface>
        </collision> -->
    <!-- <mu1 value="10000.0"/>
        <mu2 value="10000.0"/>
        <kp  value="10000000.0" />
        <kd  value="1.0" />
        <fdir1 value="1 0 0"/> -->
    <material>Gazebo/Green</material>
  </gazebo>
  <!-- frameName seems not working data are given according to the world frame -->
  <gazebo reference="leg_left_0">
    <sensor name="leg_left_0_bumper" type="contact">
      <always_on>true</always_on>
      <update_rate>50</update_rate>
      <contact>
        <collision>leg_left_0_collision</collision>
      </contact>
      <plugin filename="libgazebo_ros_bumper.so" name="leg_left_0_bumper_controller">
        <bumperTopicName>leg_left_0_bumper</bumperTopicName>
        <frameName>world</frameName>
      </plugin>
    </sensor>
  </gazebo>
  <!--===================== Link description =====================-->
  <link name="motor_box_right_5">
    <inertial>
      <mass value="0.286"/>
      <origin rpy="0  0  0" xyz="0.053 0.003 0"/>
      <inertia ixx="8.104e-05" ixy="8.747e-06" ixz="2.555e-07" iyy="0.001" iyz="0" izz="0.001"/>
    </inertial>
    <collision>
      <origin rpy="0  0  0" xyz="0 0 0"/>
      <geometry>
        <mesh filename="package://robot_description/strirus_cad_design/stl/motor_box_collision.stl" scale="1 1 1"/>
      </geometry>
    </collision>
    <visual>
      <origin rpy="0  0  0" xyz="0 0 0"/>
      <geometry>
        <mesh filename="package://robot_description/strirus_cad_design/stl/motor_box_visual.stl" scale="1 1 1"/>
      </geometry>
      <material name="white"/>
    </visual>
  </link>
  <link name="leg_right_5">
    <inertial>
      <mass value="0.051"/>
      <origin rpy="0  0  0" xyz="-0.013348671 0 0"/>
      <inertia ixx="0.000102" ixy="0" ixz="-2.817e-05" iyy="0.0001322" iyz="0" izz="3.167e-05"/>
    </inertial>
    <collision>
      <origin rpy="0  0  0" xyz="0 0 0"/>
      <geometry>
        <!-- <box size="0.1 0.0065 0.08"/> -->
        <mesh filename="package://robot_description/strirus_cad_design/stl/leg_80_collision.stl" scale="1 1 1"/>
      </geometry>
    </collision>
    <visual>
      <origin rpy="0 0 0" xyz="0 0 0"/>
      <geometry>
        <!-- <box size="0.1 0.0065 0.08"/> -->
        <mesh filename="package://robot_description/strirus_cad_design/stl/leg_80_visual.stl" scale="1 1 1"/>
      </geometry>
    </visual>
  </link>
  <joint name="motor_box_right_5_fixed_joint" type="fixed">
    <child link="motor_box_right_5"/>
    <parent link="body_2_part"/>
    <origin rpy="0       0        -1.57079632679" xyz="0.247 -0.063  0"/>
  </joint>
  <joint name="leg_right_5_revolute_joint" type="revolute">
    <parent link="motor_box_right_5"/>
    <child link="leg_right_5"/>
    <origin rpy="0 10.5592419746 1.57079632679" xyz="0.123 0 0"/>
    <!--=============== Joint properties ===============-->
    <axis xyz="0 1  0"/>
    <limit effort="300" lower="-1e+5" upper="1e+5" velocity="3.0"/>
    <dynamics damping="0.001" friction="0.0"/>
  </joint>
  <!--===================== Leg transmission description =====================-->
  <transmission name="leg_right_5_trans">
    <type>transmission_interface/SimpleTransmission</type>
    <joint name="leg_right_5_revolute_joint">
      <!-- <hardwareInterface>hardware_interface/PositionJointInterface</hardwareInterface> -->
      <hardwareInterface>hardware_interface/EffortJointInterface</hardwareInterface>
    </joint>
    <actuator name="leg_right_5_motor">
      <mechanicalReduction>1</mechanicalReduction>
    </actuator>
  </transmission>
  <gazebo reference="leg_right_5">
            
      </gazebo>
  <gazebo reference="leg_right_5">
    <mu1 value="100.0"/>
    <mu2 value="100.0"/>
    <!-- <kp  value="1000.0" />
        <kd  value="1000.0" /> -->
    <!-- <collision>
               <surface>
        <bounce>
            <restitution_coefficient>0</restitution_coefficient>
            <threshold>0</threshold>
          </bounce>
          <contact>
            <ode>
              <soft_cfm>0</soft_cfm>
              <soft_erp>0.200000</soft_erp>
              <kp>10000000000000.000000</kp>
              <kd>100000000000.000000</kd>
              <max_vel>-1</max_vel>
              <min_depth>0</min_depth>
            </ode>
          </contact>
        </surface>
        </collision> -->
    <!-- <mu1 value="10000.0"/>
        <mu2 value="10000.0"/>
        <kp  value="10000000.0" />
        <kd  value="1.0" />
        <fdir1 value="1 0 0"/> -->
    <material>Gazebo/Green</material>
  </gazebo>
  <!-- frameName seems not working data are given according to the world frame -->
  <gazebo reference="leg_right_5">
    <sensor name="leg_right_5_bumper" type="contact">
      <always_on>true</always_on>
      <update_rate>50</update_rate>
      <contact>
        <collision>leg_right_5_collision</collision>
      </contact>
      <plugin filename="libgazebo_ros_bumper.so" name="leg_right_5_bumper_controller">
        <bumperTopicName>leg_right_5_bumper</bumperTopicName>
        <frameName>world</frameName>
      </plugin>
    </sensor>
  </gazebo>
  <!--===================== Link description =====================-->
  <link name="motor_box_right_4">
    <inertial>
      <mass value="0.286"/>
      <origin rpy="0  0  0" xyz="0.053 0.003 0"/>
      <inertia ixx="8.104e-05" ixy="8.747e-06" ixz="2.555e-07" iyy="0.001" iyz="0" izz="0.001"/>
    </inertial>
    <collision>
      <origin rpy="0  0  0" xyz="0 0 0"/>
      <geometry>
        <mesh filename="package://robot_description/strirus_cad_design/stl/motor_box_collision.stl" scale="1 1 1"/>
      </geometry>
    </collision>
    <visual>
      <origin rpy="0  0  0" xyz="0 0 0"/>
      <geometry>
        <mesh filename="package://robot_description/strirus_cad_design/stl/motor_box_visual.stl" scale="1 1 1"/>
      </geometry>
      <material name="white"/>
    </visual>
  </link>
  <link name="leg_right_4">
    <inertial>
      <mass value="0.051"/>
      <origin rpy="0  0  0" xyz="-0.013348671 0 0"/>
      <inertia ixx="0.000102" ixy="0" ixz="-2.817e-05" iyy="0.0001322" iyz="0" izz="3.167e-05"/>
    </inertial>
    <collision>
      <origin rpy="0  0  0" xyz="0 0 0"/>
      <geometry>
        <!-- <box size="0.1 0.0065 0.08"/> -->
        <mesh filename="package://robot_description/strirus_cad_design/stl/leg_80_collision.stl" scale="1 1 1"/>
      </geometry>
    </collision>
    <visual>
      <origin rpy="0 0 0" xyz="0 0 0"/>
      <geometry>
        <!-- <box size="0.1 0.0065 0.08"/> -->
        <mesh filename="package://robot_description/strirus_cad_design/stl/leg_80_visual.stl" scale="1 1 1"/>
      </geometry>
    </visual>
  </link>
  <joint name="motor_box_right_4_fixed_joint" type="fixed">
    <child link="motor_box_right_4"/>
    <parent link="body_2_part"/>
    <origin rpy="0       0        -1.57079632679" xyz="0.141 -0.046  0"/>
  </joint>
  <joint name="leg_right_4_revolute_joint" type="revolute">
    <parent link="motor_box_right_4"/>
    <child link="leg_right_4"/>
    <origin rpy="0 8.46484687217 1.57079632679" xyz="0.123 0 0"/>
    <!--=============== Joint properties ===============-->
    <axis xyz="0 1  0"/>
    <limit effort="300" lower="-1e+5" upper="1e+5" velocity="3.0"/>
    <dynamics damping="0.001" friction="0.0"/>
  </joint>
  <!--===================== Leg transmission description =====================-->
  <transmission name="leg_right_4_trans">
    <type>transmission_interface/SimpleTransmission</type>
    <joint name="leg_right_4_revolute_joint">
      <!-- <hardwareInterface>hardware_interface/PositionJointInterface</hardwareInterface> -->
      <hardwareInterface>hardware_interface/EffortJointInterface</hardwareInterface>
    </joint>
    <actuator name="leg_right_4_motor">
      <mechanicalReduction>1</mechanicalReduction>
    </actuator>
  </transmission>
  <gazebo reference="leg_right_4">
            
      </gazebo>
  <gazebo reference="leg_right_4">
    <mu1 value="100.0"/>
    <mu2 value="100.0"/>
    <!-- <kp  value="1000.0" />
        <kd  value="1000.0" /> -->
    <!-- <collision>
               <surface>
        <bounce>
            <restitution_coefficient>0</restitution_coefficient>
            <threshold>0</threshold>
          </bounce>
          <contact>
            <ode>
              <soft_cfm>0</soft_cfm>
              <soft_erp>0.200000</soft_erp>
              <kp>10000000000000.000000</kp>
              <kd>100000000000.000000</kd>
              <max_vel>-1</max_vel>
              <min_depth>0</min_depth>
            </ode>
          </contact>
        </surface>
        </collision> -->
    <!-- <mu1 value="10000.0"/>
        <mu2 value="10000.0"/>
        <kp  value="10000000.0" />
        <kd  value="1.0" />
        <fdir1 value="1 0 0"/> -->
    <material>Gazebo/Green</material>
  </gazebo>
  <!-- frameName seems not working data are given according to the world frame -->
  <gazebo reference="leg_right_4">
    <sensor name="leg_right_4_bumper" type="contact">
      <always_on>true</always_on>
      <update_rate>50</update_rate>
      <contact>
        <collision>leg_right_4_collision</collision>
      </contact>
      <plugin filename="libgazebo_ros_bumper.so" name="leg_right_4_bumper_controller">
        <bumperTopicName>leg_right_4_bumper</bumperTopicName>
        <frameName>world</frameName>
      </plugin>
    </sensor>
  </gazebo>
  <!--===================== Link description =====================-->
  <link name="motor_box_right_3">
    <inertial>
      <mass value="0.286"/>
      <origin rpy="0  0  0" xyz="0.053 0.003 0"/>
      <inertia ixx="8.104e-05" ixy="8.747e-06" ixz="2.555e-07" iyy="0.001" iyz="0" izz="0.001"/>
    </inertial>
    <collision>
      <origin rpy="0  0  0" xyz="0 0 0"/>
      <geometry>
        <mesh filename="package://robot_description/strirus_cad_design/stl/motor_box_collision.stl" scale="1 1 1"/>
      </geometry>
    </collision>
    <visual>
      <origin rpy="0  0  0" xyz="0 0 0"/>
      <geometry>
        <mesh filename="package://robot_description/strirus_cad_design/stl/motor_box_visual.stl" scale="1 1 1"/>
      </geometry>
      <material name="white"/>
    </visual>
  </link>
  <link name="leg_right_3">
    <inertial>
      <mass value="0.051"/>
      <origin rpy="0  0  0" xyz="-0.013348671 0 0"/>
      <inertia ixx="0.000102" ixy="0" ixz="-2.817e-05" iyy="0.0001322" iyz="0" izz="3.167e-05"/>
    </inertial>
    <collision>
      <origin rpy="0  0  0" xyz="0 0 0"/>
      <geometry>
        <!-- <box size="0.1 0.0065 0.08"/> -->
        <mesh filename="package://robot_description/strirus_cad_design/stl/leg_80_collision.stl" scale="1 1 1"/>
      </geometry>
    </collision>
    <visual>
      <origin rpy="0 0 0" xyz="0 0 0"/>
      <geometry>
        <!-- <box size="0.1 0.0065 0.08"/> -->
        <mesh filename="package://robot_description/strirus_cad_design/stl/leg_80_visual.stl" scale="1 1 1"/>
      </geometry>
    </visual>
  </link>
  <joint name="motor_box_right_3_fixed_joint" type="fixed">
    <child link="motor_box_right_3"/>
    <parent link="body_2_part"/>
    <origin rpy="0       0        -1.57079632679" xyz="0.035 -0.063  0"/>
  </joint>
  <joint name="leg_right_3_revolute_joint" type="revolute">
    <parent link="motor_box_right_3"/>
    <child link="leg_right_3"/>
    <origin rpy="0 6.37045176978 1.57079632679" xyz="0.123 0 0"/>
    <!--=============== Joint properties ===============-->
    <axis xyz="0 1  0"/>
    <limit effort="300" lower="-1e+5" upper="1e+5" velocity="3.0"/>
    <dynamics damping="0.001" friction="0.0"/>
  </joint>
  <!--===================== Leg transmission description =====================-->
  <transmission name="leg_right_3_trans">
    <type>transmission_interface/SimpleTransmission</type>
    <joint name="leg_right_3_revolute_joint">
      <!-- <hardwareInterface>hardware_interface/PositionJointInterface</hardwareInterface> -->
      <hardwareInterface>hardware_interface/EffortJointInterface</hardwareInterface>
    </joint>
    <actuator name="leg_right_3_motor">
      <mechanicalReduction>1</mechanicalReduction>
    </actuator>
  </transmission>
  <gazebo reference="leg_right_3">
            
      </gazebo>
  <gazebo reference="leg_right_3">
    <mu1 value="100.0"/>
    <mu2 value="100.0"/>
    <!-- <kp  value="1000.0" />
        <kd  value="1000.0" /> -->
    <!-- <collision>
               <surface>
        <bounce>
            <restitution_coefficient>0</restitution_coefficient>
            <threshold>0</threshold>
          </bounce>
          <contact>
            <ode>
              <soft_cfm>0</soft_cfm>
              <soft_erp>0.200000</soft_erp>
              <kp>10000000000000.000000</kp>
              <kd>100000000000.000000</kd>
              <max_vel>-1</max_vel>
              <min_depth>0</min_depth>
            </ode>
          </contact>
        </surface>
        </collision> -->
    <!-- <mu1 value="10000.0"/>
        <mu2 value="10000.0"/>
        <kp  value="10000000.0" />
        <kd  value="1.0" />
        <fdir1 value="1 0 0"/> -->
    <material>Gazebo/Green</material>
  </gazebo>
  <!-- frameName seems not working data are given according to the world frame -->
  <gazebo reference="leg_right_3">
    <sensor name="leg_right_3_bumper" type="contact">
      <always_on>true</always_on>
      <update_rate>50</update_rate>
      <contact>
        <collision>leg_right_3_collision</collision>
      </contact>
      <plugin filename="libgazebo_ros_bumper.so" name="leg_right_3_bumper_controller">
        <bumperTopicName>leg_right_3_bumper</bumperTopicName>
        <frameName>world</frameName>
      </plugin>
    </sensor>
  </gazebo>
  <!--===================== Link description =====================-->
  <link name="motor_box_right_2">
    <inertial>
      <mass value="0.286"/>
      <origin rpy="0  0  0" xyz="0.053 0.003 0"/>
      <inertia ixx="8.104e-05" ixy="8.747e-06" ixz="2.555e-07" iyy="0.001" iyz="0" izz="0.001"/>
    </inertial>
    <collision>
      <origin rpy="0  0  0" xyz="0 0 0"/>
      <geometry>
        <mesh filename="package://robot_description/strirus_cad_design/stl/motor_box_collision.stl" scale="1 1 1"/>
      </geometry>
    </collision>
    <visual>
      <origin rpy="0  0  0" xyz="0 0 0"/>
      <geometry>
        <mesh filename="package://robot_description/strirus_cad_design/stl/motor_box_visual.stl" scale="1 1 1"/>
      </geometry>
      <material name="white"/>
    </visual>
  </link>
  <link name="leg_right_2">
    <inertial>
      <mass value="0.051"/>
      <origin rpy="0  0  0" xyz="-0.013348671 0 0"/>
      <inertia ixx="0.000102" ixy="0" ixz="-2.817e-05" iyy="0.0001322" iyz="0" izz="3.167e-05"/>
    </inertial>
    <collision>
      <origin rpy="0  0  0" xyz="0 0 0"/>
      <geometry>
        <!-- <box size="0.1 0.0065 0.08"/> -->
        <mesh filename="package://robot_description/strirus_cad_design/stl/leg_80_collision.stl" scale="1 1 1"/>
      </geometry>
    </collision>
    <visual>
      <origin rpy="0 0 0" xyz="0 0 0"/>
      <geometry>
        <!-- <box size="0.1 0.0065 0.08"/> -->
        <mesh filename="package://robot_description/strirus_cad_design/stl/leg_80_visual.stl" scale="1 1 1"/>
      </geometry>
    </visual>
  </link>
  <joint name="motor_box_right_2_fixed_joint" type="fixed">
    <child link="motor_box_right_2"/>
    <parent link="body_1_part"/>
    <origin rpy="0       0        -1.57079632679" xyz="0.212 -0.046  0"/>
  </joint>
  <joint name="leg_right_2_revolute_joint" type="revolute">
    <parent link="motor_box_right_2"/>
    <child link="leg_right_2"/>
    <origin rpy="0 4.27605666739 1.57079632679" xyz="0.123 0 0"/>
    <!--=============== Joint properties ===============-->
    <axis xyz="0 1  0"/>
    <limit effort="300" lower="-1e+5" upper="1e+5" velocity="3.0"/>
    <dynamics damping="0.001" friction="0.0"/>
  </joint>
  <!--===================== Leg transmission description =====================-->
  <transmission name="leg_right_2_trans">
    <type>transmission_interface/SimpleTransmission</type>
    <joint name="leg_right_2_revolute_joint">
      <!-- <hardwareInterface>hardware_interface/PositionJointInterface</hardwareInterface> -->
      <hardwareInterface>hardware_interface/EffortJointInterface</hardwareInterface>
    </joint>
    <actuator name="leg_right_2_motor">
      <mechanicalReduction>1</mechanicalReduction>
    </actuator>
  </transmission>
  <gazebo reference="leg_right_2">
            
      </gazebo>
  <gazebo reference="leg_right_2">
    <mu1 value="100.0"/>
    <mu2 value="100.0"/>
    <!-- <kp  value="1000.0" />
        <kd  value="1000.0" /> -->
    <!-- <collision>
               <surface>
        <bounce>
            <restitution_coefficient>0</restitution_coefficient>
            <threshold>0</threshold>
          </bounce>
          <contact>
            <ode>
              <soft_cfm>0</soft_cfm>
              <soft_erp>0.200000</soft_erp>
              <kp>10000000000000.000000</kp>
              <kd>100000000000.000000</kd>
              <max_vel>-1</max_vel>
              <min_depth>0</min_depth>
            </ode>
          </contact>
        </surface>
        </collision> -->
    <!-- <mu1 value="10000.0"/>
        <mu2 value="10000.0"/>
        <kp  value="10000000.0" />
        <kd  value="1.0" />
        <fdir1 value="1 0 0"/> -->
    <material>Gazebo/Green</material>
  </gazebo>
  <!-- frameName seems not working data are given according to the world frame -->
  <gazebo reference="leg_right_2">
    <sensor name="leg_right_2_bumper" type="contact">
      <always_on>true</always_on>
      <update_rate>50</update_rate>
      <contact>
        <collision>leg_right_2_collision</collision>
      </contact>
      <plugin filename="libgazebo_ros_bumper.so" name="leg_right_2_bumper_controller">
        <bumperTopicName>leg_right_2_bumper</bumperTopicName>
        <frameName>world</frameName>
      </plugin>
    </sensor>
  </gazebo>
  <!--===================== Link description =====================-->
  <link name="motor_box_right_1">
    <inertial>
      <mass value="0.286"/>
      <origin rpy="0  0  0" xyz="0.053 0.003 0"/>
      <inertia ixx="8.104e-05" ixy="8.747e-06" ixz="2.555e-07" iyy="0.001" iyz="0" izz="0.001"/>
    </inertial>
    <collision>
      <origin rpy="0  0  0" xyz="0 0 0"/>
      <geometry>
        <mesh filename="package://robot_description/strirus_cad_design/stl/motor_box_collision.stl" scale="1 1 1"/>
      </geometry>
    </collision>
    <visual>
      <origin rpy="0  0  0" xyz="0 0 0"/>
      <geometry>
        <mesh filename="package://robot_description/strirus_cad_design/stl/motor_box_visual.stl" scale="1 1 1"/>
      </geometry>
      <material name="white"/>
    </visual>
  </link>
  <link name="leg_right_1">
    <inertial>
      <mass value="0.051"/>
      <origin rpy="0  0  0" xyz="-0.013348671 0 0"/>
      <inertia ixx="0.000102" ixy="0" ixz="-2.817e-05" iyy="0.0001322" iyz="0" izz="3.167e-05"/>
    </inertial>
    <collision>
      <origin rpy="0  0  0" xyz="0 0 0"/>
      <geometry>
        <!-- <box size="0.1 0.0065 0.08"/> -->
        <mesh filename="package://robot_description/strirus_cad_design/stl/leg_80_collision.stl" scale="1 1 1"/>
      </geometry>
    </collision>
    <visual>
      <origin rpy="0 0 0" xyz="0 0 0"/>
      <geometry>
        <!-- <box size="0.1 0.0065 0.08"/> -->
        <mesh filename="package://robot_description/strirus_cad_design/stl/leg_80_visual.stl" scale="1 1 1"/>
      </geometry>
    </visual>
  </link>
  <joint name="motor_box_right_1_fixed_joint" type="fixed">
    <child link="motor_box_right_1"/>
    <parent link="body_1_part"/>
    <origin rpy="0       0        -1.57079632679" xyz="0.106 -0.063  0"/>
  </joint>
  <joint name="leg_right_1_revolute_joint" type="revolute">
    <parent link="motor_box_right_1"/>
    <child link="leg_right_1"/>
    <origin rpy="0 2.18166156499 1.57079632679" xyz="0.123 0 0"/>
    <!--=============== Joint properties ===============-->
    <axis xyz="0 1  0"/>
    <limit effort="300" lower="-1e+5" upper="1e+5" velocity="3.0"/>
    <dynamics damping="0.001" friction="0.0"/>
  </joint>
  <!--===================== Leg transmission description =====================-->
  <transmission name="leg_right_1_trans">
    <type>transmission_interface/SimpleTransmission</type>
    <joint name="leg_right_1_revolute_joint">
      <!-- <hardwareInterface>hardware_interface/PositionJointInterface</hardwareInterface> -->
      <hardwareInterface>hardware_interface/EffortJointInterface</hardwareInterface>
    </joint>
    <actuator name="leg_right_1_motor">
      <mechanicalReduction>1</mechanicalReduction>
    </actuator>
  </transmission>
  <gazebo reference="leg_right_1">
            
      </gazebo>
  <gazebo reference="leg_right_1">
    <mu1 value="100.0"/>
    <mu2 value="100.0"/>
    <!-- <kp  value="1000.0" />
        <kd  value="1000.0" /> -->
    <!-- <collision>
               <surface>
        <bounce>
            <restitution_coefficient>0</restitution_coefficient>
            <threshold>0</threshold>
          </bounce>
          <contact>
            <ode>
              <soft_cfm>0</soft_cfm>
              <soft_erp>0.200000</soft_erp>
              <kp>10000000000000.000000</kp>
              <kd>100000000000.000000</kd>
              <max_vel>-1</max_vel>
              <min_depth>0</min_depth>
            </ode>
          </contact>
        </surface>
        </collision> -->
    <!-- <mu1 value="10000.0"/>
        <mu2 value="10000.0"/>
        <kp  value="10000000.0" />
        <kd  value="1.0" />
        <fdir1 value="1 0 0"/> -->
    <material>Gazebo/Green</material>
  </gazebo>
  <!-- frameName seems not working data are given according to the world frame -->
  <gazebo reference="leg_right_1">
    <sensor name="leg_right_1_bumper" type="contact">
      <always_on>true</always_on>
      <update_rate>50</update_rate>
      <contact>
        <collision>leg_right_1_collision</collision>
      </contact>
      <plugin filename="libgazebo_ros_bumper.so" name="leg_right_1_bumper_controller">
        <bumperTopicName>leg_right_1_bumper</bumperTopicName>
        <frameName>world</frameName>
      </plugin>
    </sensor>
  </gazebo>
  <!--===================== Link description =====================-->
  <link name="motor_box_right_0">
    <inertial>
      <mass value="0.286"/>
      <origin rpy="0  0  0" xyz="0.053 0.003 0"/>
      <inertia ixx="8.104e-05" ixy="8.747e-06" ixz="2.555e-07" iyy="0.001" iyz="0" izz="0.001"/>
    </inertial>
    <collision>
      <origin rpy="0  0  0" xyz="0 0 0"/>
      <geometry>
        <mesh filename="package://robot_description/strirus_cad_design/stl/motor_box_collision.stl" scale="1 1 1"/>
      </geometry>
    </collision>
    <visual>
      <origin rpy="0  0  0" xyz="0 0 0"/>
      <geometry>
        <mesh filename="package://robot_description/strirus_cad_design/stl/motor_box_visual.stl" scale="1 1 1"/>
      </geometry>
      <material name="white"/>
    </visual>
  </link>
  <link name="leg_right_0">
    <inertial>
      <mass value="0.051"/>
      <origin rpy="0  0  0" xyz="-0.013348671 0 0"/>
      <inertia ixx="0.000102" ixy="0" ixz="-2.817e-05" iyy="0.0001322" iyz="0" izz="3.167e-05"/>
    </inertial>
    <collision>
      <origin rpy="0  0  0" xyz="0 0 0"/>
      <geometry>
        <!-- <box size="0.1 0.0065 0.08"/> -->
        <mesh filename="package://robot_description/strirus_cad_design/stl/leg_80_collision.stl" scale="1 1 1"/>
      </geometry>
    </collision>
    <visual>
      <origin rpy="0 0 0" xyz="0 0 0"/>
      <geometry>
        <!-- <box size="0.1 0.0065 0.08"/> -->
        <mesh filename="package://robot_description/strirus_cad_design/stl/leg_80_visual.stl" scale="1 1 1"/>
      </geometry>
    </visual>
  </link>
  <joint name="motor_box_right_0_fixed_joint" type="fixed">
    <child link="motor_box_right_0"/>
    <parent link="body_1_part"/>
    <origin rpy="0       0        -1.57079632679" xyz="0.0 -0.046  0"/>
  </joint>
  <joint name="leg_right_0_revolute_joint" type="revolute">
    <parent link="motor_box_right_0"/>
    <child link="leg_right_0"/>
    <origin rpy="0 0.0872664625997 1.57079632679" xyz="0.123 0 0"/>
    <!--=============== Joint properties ===============-->
    <axis xyz="0 1  0"/>
    <limit effort="300" lower="-1e+5" upper="1e+5" velocity="3.0"/>
    <dynamics damping="0.001" friction="0.0"/>
  </joint>
  <!--===================== Leg transmission description =====================-->
  <transmission name="leg_right_0_trans">
    <type>transmission_interface/SimpleTransmission</type>
    <joint name="leg_right_0_revolute_joint">
      <!-- <hardwareInterface>hardware_interface/PositionJointInterface</hardwareInterface> -->
      <hardwareInterface>hardware_interface/EffortJointInterface</hardwareInterface>
    </joint>
    <actuator name="leg_right_0_motor">
      <mechanicalReduction>1</mechanicalReduction>
    </actuator>
  </transmission>
  <gazebo reference="leg_right_0">
            
      </gazebo>
  <gazebo reference="leg_right_0">
    <mu1 value="100.0"/>
    <mu2 value="100.0"/>
    <!-- <kp  value="1000.0" />
        <kd  value="1000.0" /> -->
    <!-- <collision>
               <surface>
        <bounce>
            <restitution_coefficient>0</restitution_coefficient>
            <threshold>0</threshold>
          </bounce>
          <contact>
            <ode>
              <soft_cfm>0</soft_cfm>
              <soft_erp>0.200000</soft_erp>
              <kp>10000000000000.000000</kp>
              <kd>100000000000.000000</kd>
              <max_vel>-1</max_vel>
              <min_depth>0</min_depth>
            </ode>
          </contact>
        </surface>
        </collision> -->
    <!-- <mu1 value="10000.0"/>
        <mu2 value="10000.0"/>
        <kp  value="10000000.0" />
        <kd  value="1.0" />
        <fdir1 value="1 0 0"/> -->
    <material>Gazebo/Green</material>
  </gazebo>
  <!-- frameName seems not working data are given according to the world frame -->
  <gazebo reference="leg_right_0">
    <sensor name="leg_right_0_bumper" type="contact">
      <always_on>true</always_on>
      <update_rate>50</update_rate>
      <contact>
        <collision>leg_right_0_collision</collision>
      </contact>
      <plugin filename="libgazebo_ros_bumper.so" name="leg_right_0_bumper_controller">
        <bumperTopicName>leg_right_0_bumper</bumperTopicName>
        <frameName>world</frameName>
      </plugin>
    </sensor>
  </gazebo>
  <!--====================== Plugin TOF camera 2 ======================-->
  <gazebo reference="tof_camera_2">
    <sensor name="tof_camera_2_camera" type="depth">
      <update_rate>45</update_rate>
      <camera>
        <horizontal_fov>1.0821</horizontal_fov>
        <image>
          <width>224</width>
          <height>171</height>
          <format>L8</format>
        </image>
        <clip>
          <near>0.01</near>
          <far>4</far>
        </clip>
      </camera>
      <plugin filename="libgazebo_ros_openni_kinect.so" name="camera_2_plugin">
        <baseline>0.2</baseline>
        <alwaysOn>true</alwaysOn>
        <updateRate>0.0</updateRate>
        <cameraName>pico_flexx2</cameraName>
        <imageTopicName>/pico_flexx2/color/image_raw</imageTopicName>
        <cameraInfoTopicName>/pico_flexx2/camera_info</cameraInfoTopicName>
        <depthImageTopicName>/pico_flexx2/image_depth</depthImageTopicName>
        <depthImageCameraInfoTopicName>/pico_flexx2/camera_info</depthImageCameraInfoTopicName>
        <pointCloudTopicName>/pico_flexx/points2</pointCloudTopicName>
        <frameName>tof_camera_2</frameName>
        <pointCloudCutoff>0.5</pointCloudCutoff>
        <pointCloudCutoffMax>3.0</pointCloudCutoffMax>
        <distortionK1>0.478024</distortionK1>
        <distortionK2>-5.00469</distortionK2>
        <distortionK3>8.73712</distortionK3>
        <distortionT1>2.15213e-15</distortionT1>
        <distortionT2>-2.30369e-16</distortionT2>
        <CxPrime>0</CxPrime>
        <Cx>112.654</Cx>
        <Cy>87.9818</Cy>
        <focalLength>186.400175</focalLength>
        <hackBaseline>0</hackBaseline>
      </plugin>
    </sensor>
  </gazebo>
  <!--====================== Plugin TOF camera 1 ======================-->
  <!-- <gazebo reference="tof_camera_1">
  <sensor name="tof_camera_1_camera" type="depth">
    <update_rate>45</update_rate>
    <camera>
      <horizontal_fov>1.0821</horizontal_fov>
      <image>
        <width>224</width>
        <height>171</height>
        <format>L8</format>
      </image>
      <clip>
        <near>0.01</near>
        <far>4</far>
      </clip>
    </camera>
    <plugin name="camera_1_plugin" filename="libgazebo_ros_openni_kinect.so">
          <baseline>0.2</baseline>
          <alwaysOn>true</alwaysOn>
          <updateRate>0.0</updateRate>
          <cameraName>pico_flexx1</cameraName>
          <imageTopicName>/pico_flexx1/color/image_raw</imageTopicName>
          <cameraInfoTopicName>/pico_flexx1/camera_info</cameraInfoTopicName>
          <depthImageTopicName>/pico_flexx1/image_depth</depthImageTopicName>
          <depthImageCameraInfoTopicName>/pico_flexx1/camera_info</depthImageCameraInfoTopicName>
          <pointCloudTopicName>/pico_flexx1/points</pointCloudTopicName>
          <frameName>tof_camera_1</frameName>
          <pointCloudCutoff>0.5</pointCloudCutoff>
          <pointCloudCutoffMax>3.0</pointCloudCutoffMax>
          <distortionK1>0.478024</distortionK1>
          <distortionK2>-5.00469</distortionK2>
          <distortionK3>8.73712</distortionK3>
          <distortionT1>2.15213e-15</distortionT1>
          <distortionT2>-2.30369e-16</distortionT2>
          <CxPrime>0</CxPrime>
          <Cx>112.654</Cx>
          <Cy>87.9818</Cy>
          <focalLength>211.101</focalLength>
          <hackBaseline>0</hackBaseline>
    </plugin>
  </sensor>
</gazebo> -->
  <!--====================== Plugin IMU 1 ======================-->
  <gazebo reference="imu_1">
    <sensor name="imu_sensor_1" type="imu">
      <always_on>true</always_on>
      <update_rate>100</update_rate>
      <plugin filename="libgazebo_ros_imu_sensor.so" name="imu_plugin_1">
        <topicName>imu1</topicName>
        <bodyName>imu_1</bodyName>
        <updateRateHZ>10.0</updateRateHZ>
        <gaussianNoise>0.0</gaussianNoise>
        <xyzOffset>0 0 0</xyzOffset>
        <rpyOffset>0 0 0</rpyOffset>
        <frameName>imu_1</frameName>
      </plugin>
    </sensor>
  </gazebo>
  <!--====================== Plugin IMU 2 ======================-->
  <gazebo reference="imu_2">
    <sensor name="imu_sensor_2" type="imu">
      <always_on>true</always_on>
      <update_rate>100</update_rate>
      <plugin filename="libgazebo_ros_imu_sensor.so" name="imu_plugin_2">
        <topicName>imu2</topicName>
        <bodyName>imu_2</bodyName>
        <updateRateHZ>10.0</updateRateHZ>
        <gaussianNoise>0.0</gaussianNoise>
        <xyzOffset>0 0 0</xyzOffset>
        <rpyOffset>0 0 0</rpyOffset>
        <frameName>imu_2</frameName>
      </plugin>
    </sensor>
  </gazebo>
  <!-- <gazebo>
  <plugin name="gazebo_ros_control" filename="libgazebo_ros_control.so">
    <robotNamespace>/strirus_robot</robotNamespace>
    <robotSimType>gazebo_ros_control/DefaultRobotHWSim</robotSimType>
  </plugin>
</gazebo> -->
  <!-- <gazebo>
 <plugin name="joint_state_publisher" filename="libgazebo_ros_joint_state_publisher.so">
    <robotNamespace>/strirus_robot</robotNamespace>
    <jointName>leg_left_5_revolute_joint, leg_left_4_revolute_joint, leg_left_3_revolute_joint, leg_left_2_revolute_joint, leg_left_1_revolute_joint, leg_left_0_revolute_joint, leg_right_5_revolute_joint, leg_right_4_revolute_joint, leg_right_3_revolute_joint, leg_right_2_revolute_joint, leg_right_1_revolute_joint, leg_right_0_revolute_joint</jointName>
    <updateRate>60.0</updateRate>
    <alwaysOn>true</alwaysOn>
 </plugin>
</gazebo> -->
</robot>
